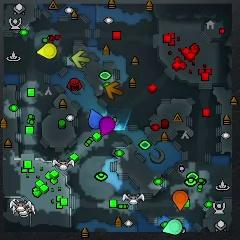p1: (88, 109, 104, 128)
p2: (163, 219, 183, 234)
p3: (100, 116, 115, 135)
p4: (37, 42, 57, 59)
p5: (173, 190, 188, 210)
x2: (72, 51, 88, 68)
x5: (105, 81, 123, 98)
